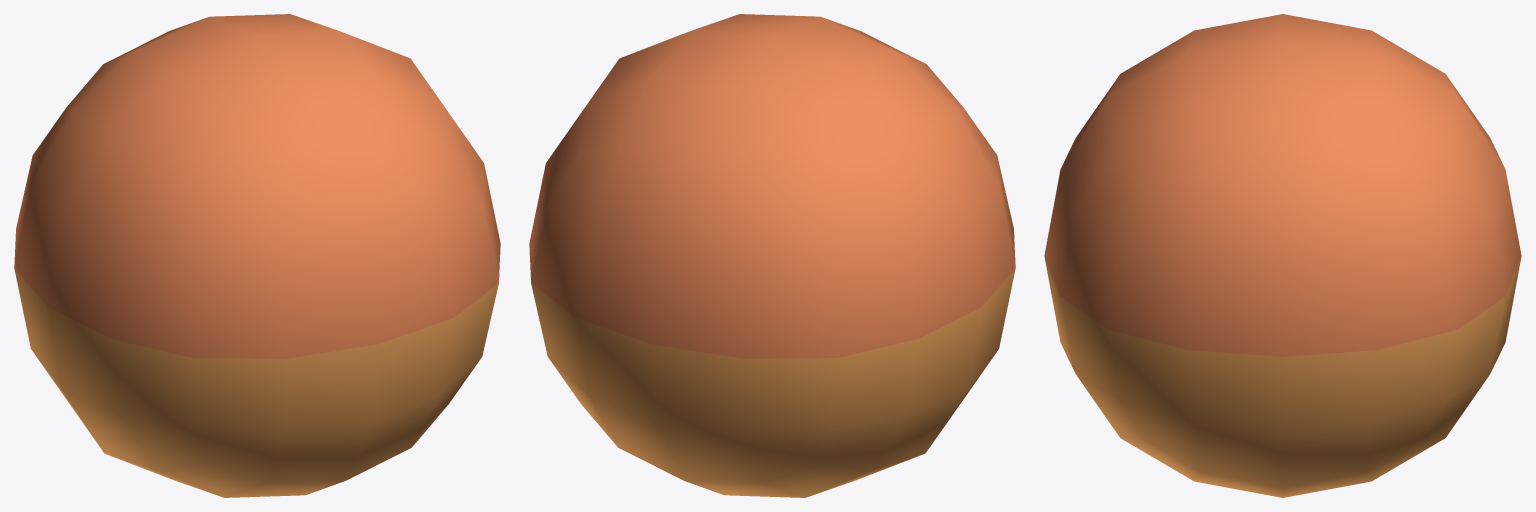
Rendered from Basketball.fbx.
3 views of the same model, side by side, from view 1: azimuth 30°, elevation 25°; view 2: azimuth 150°, elevation 25°; view 3: azimuth 270°, elevation 25° (orthographic).
Visible parts, largest first — view 1: Basketball; view 2: Basketball; view 3: Basketball.
Part boxes in pixels (box(x1,y1,x2,y2)): Basketball: box(14, 14, 500, 497); Basketball: box(529, 14, 1015, 497); Basketball: box(1044, 14, 1521, 497).
Size of the model in its own units: 0.0219 by 0.0219 by 0.0219.
Materials: 1 (1 with a texture image).
